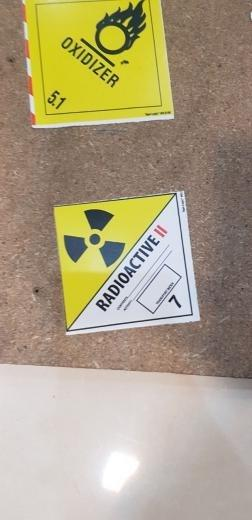oxidizer: (21, 1, 175, 130)
radioactive: (51, 190, 202, 336)
